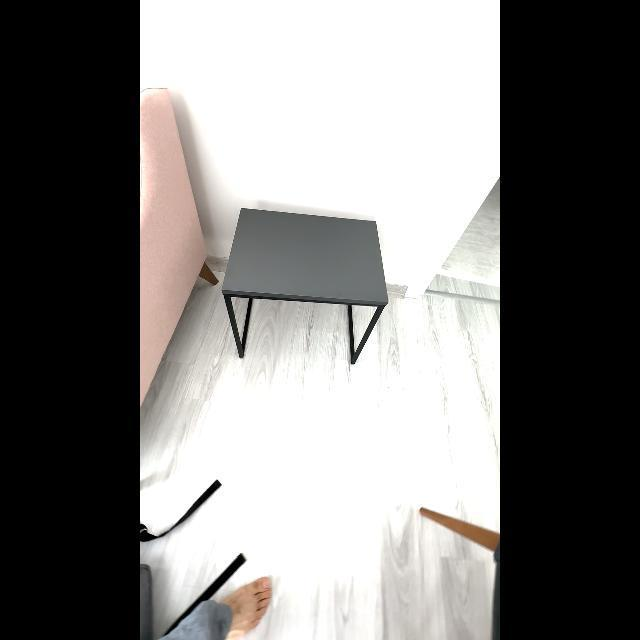coffee table: (217, 200, 395, 372)
